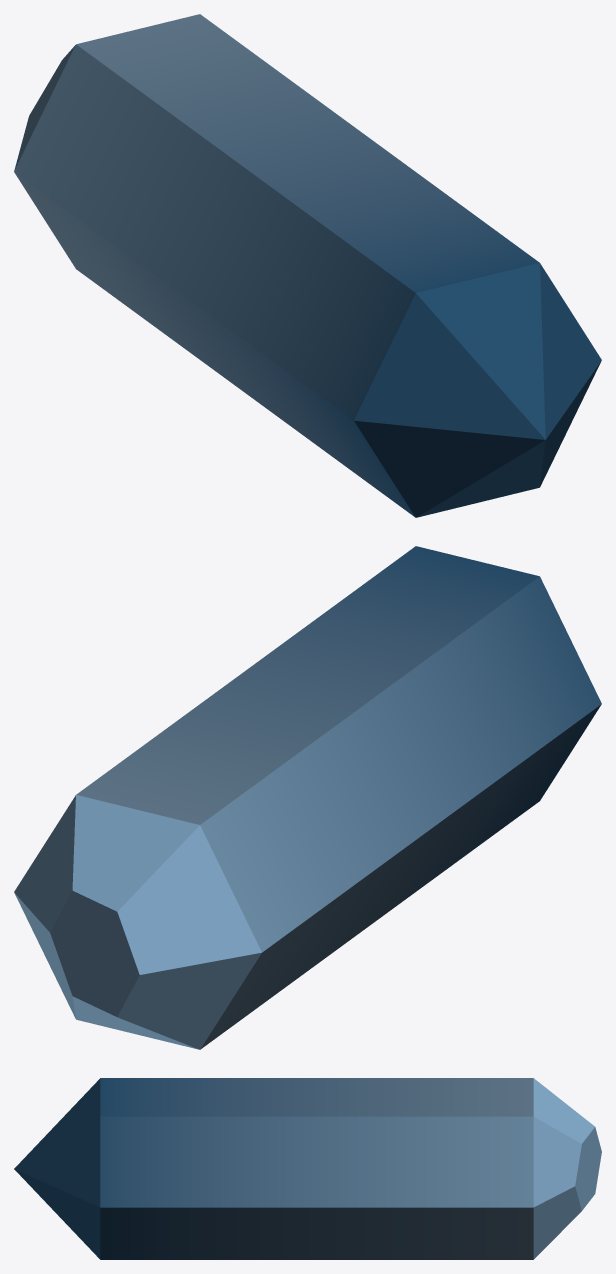
Rendered from IceCrystal.011.glb.
3 views of the same model, one above another, from view 1: azimuth 30°, elevation 25°; view 2: azimuth 150°, elevation 25°; view 3: azimuth 270°, elevation 25° (orthographic). The views are drawn at different scales.
Visible parts, largest first — view 1: IceCrystal.011; view 2: IceCrystal.011; view 3: IceCrystal.011.
Part boxes in pixels (box(x1,y1,x2,y2)): IceCrystal.011: box(14, 14, 601, 517); IceCrystal.011: box(14, 546, 601, 1049); IceCrystal.011: box(14, 1078, 601, 1259).
Size of the model in its own units: 148 by 128 by 477.
